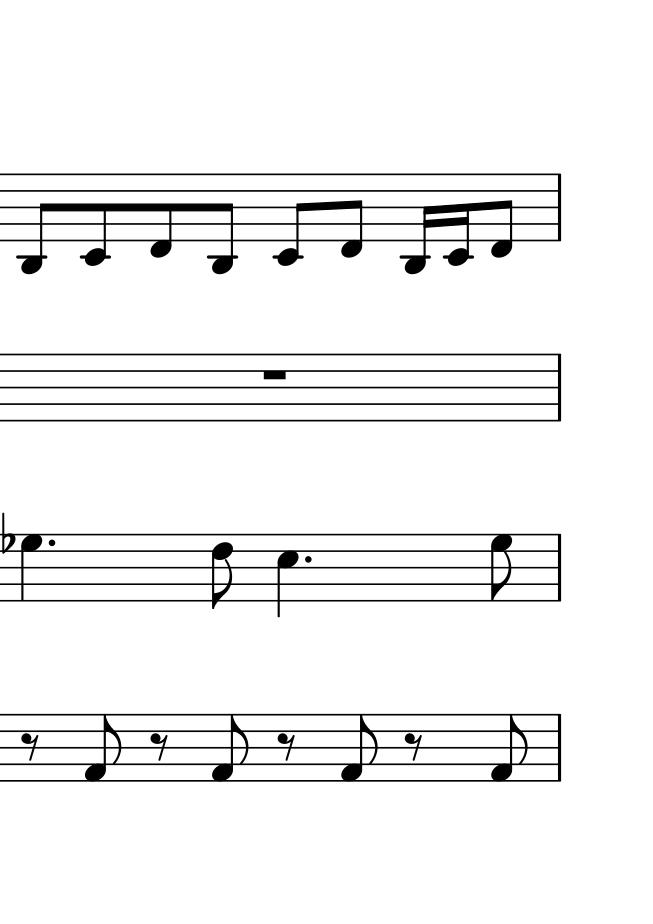16_-2: (441, 169, 472, 268)
16_-3: (402, 171, 435, 277)
4_5: (274, 532, 300, 620)
4_7: (19, 532, 44, 604)
8_-1: (146, 170, 175, 260), (489, 171, 517, 261), (339, 171, 365, 261)
8_-2: (272, 172, 311, 269), (79, 170, 111, 268)
8_-3: (16, 173, 55, 275), (207, 170, 236, 277)
8_1: (208, 711, 254, 782), (80, 713, 125, 782), (488, 713, 528, 784), (338, 712, 378, 782)
8_6: (210, 530, 234, 608)
8_7: (488, 533, 518, 603)
Flat: (1, 507, 19, 567)
Rests1: (260, 365, 289, 384)
Rests8: (18, 729, 42, 767), (273, 731, 299, 764), (147, 731, 173, 763), (402, 731, 427, 763)
Single_barline: (550, 713, 568, 782), (550, 353, 567, 421), (551, 533, 567, 601), (552, 172, 566, 241)
dot: (301, 552, 314, 566), (44, 537, 58, 549)
